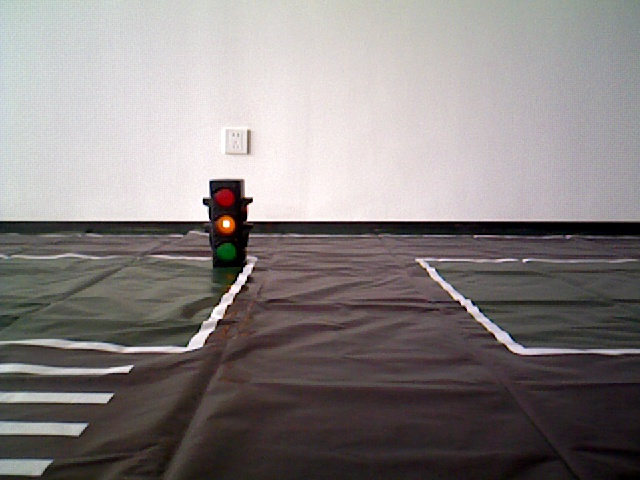yellow: (207, 179, 249, 268)
